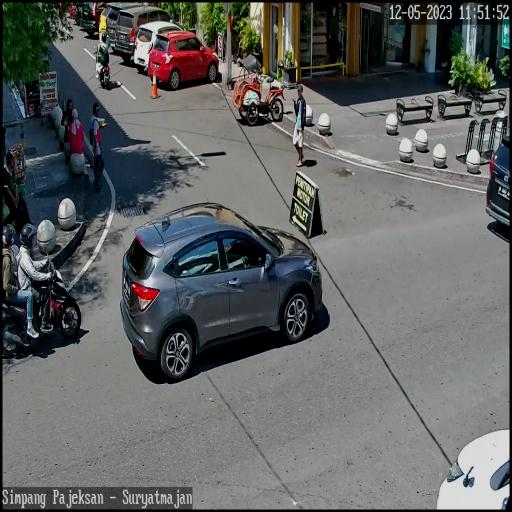mobil: (121, 204, 322, 383), (149, 24, 215, 90), (115, 5, 180, 65), (132, 18, 185, 68)
motor: (1, 241, 82, 356), (94, 48, 112, 88)
